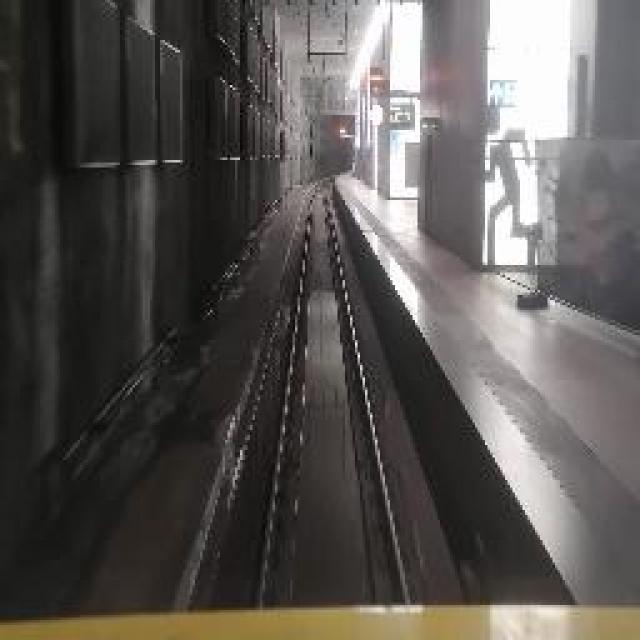rail: (226, 174, 437, 608)
